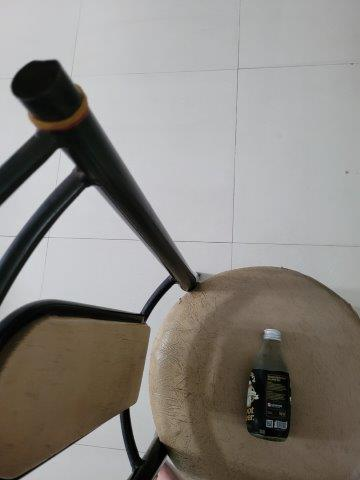botolkaca: (245, 327, 291, 440)
